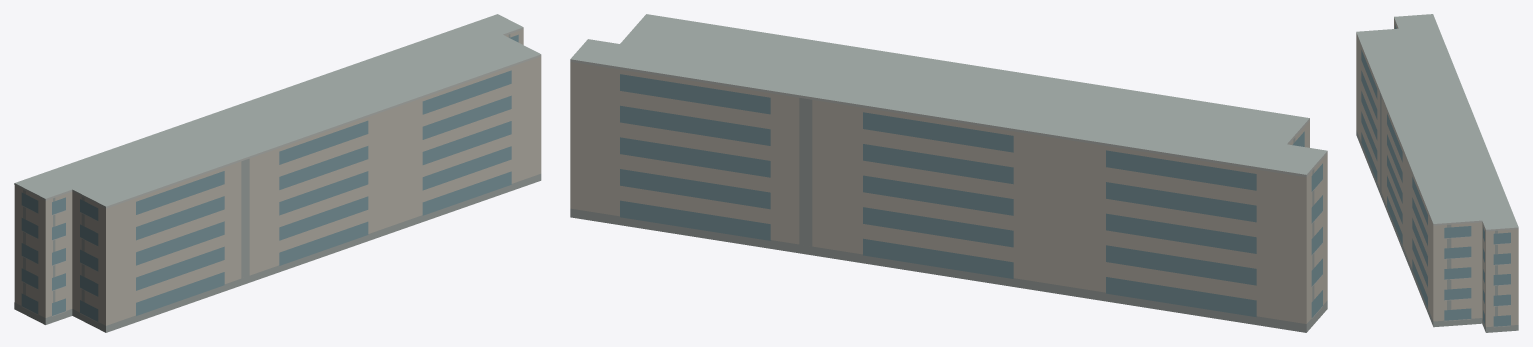
The model's file is residential-36f3361e-ce2c-4d3a-b59a-8e15bcbf66e2.glb.
The picture shows the model from 3 angles, left to right: view 1: azimuth 30°, elevation 25°; view 2: azimuth 150°, elevation 25°; view 3: azimuth 270°, elevation 25°; orthographic projection. The views are drawn at different scales.
Parts seen in each view (by area): view 1: residential-36f3361e-ce2c-4d3a-b59a-8e15bcbf66e2.tmp; view 2: residential-36f3361e-ce2c-4d3a-b59a-8e15bcbf66e2.tmp; view 3: residential-36f3361e-ce2c-4d3a-b59a-8e15bcbf66e2.tmp.
Boxes of the visible parts, <box> form: residential-36f3361e-ce2c-4d3a-b59a-8e15bcbf66e2.tmp: <box>14,14,541,332</box>; residential-36f3361e-ce2c-4d3a-b59a-8e15bcbf66e2.tmp: <box>570,14,1327,332</box>; residential-36f3361e-ce2c-4d3a-b59a-8e15bcbf66e2.tmp: <box>1356,14,1518,332</box>.
Size of the model in its own units: 68.46 by 15.25 by 21.8.
